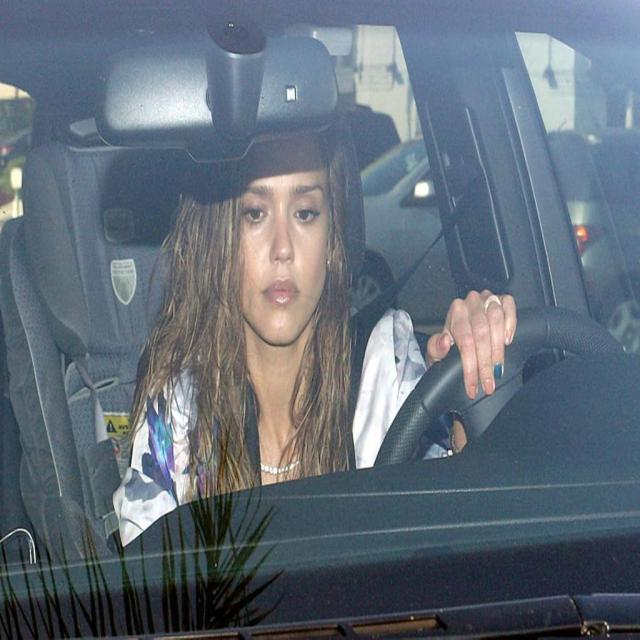Face: (218, 150, 340, 358)
